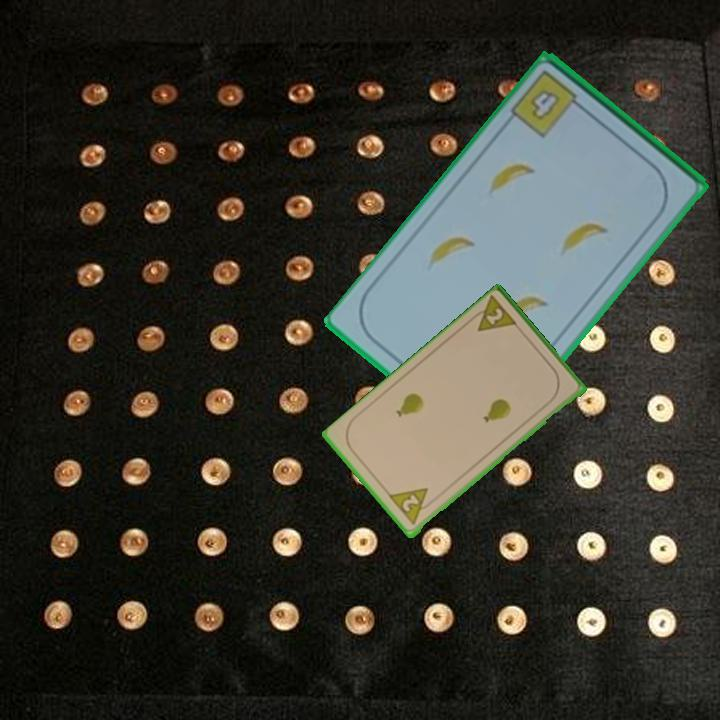2p: (466, 293, 521, 335), (386, 484, 438, 528)
4b: (507, 66, 590, 141)
